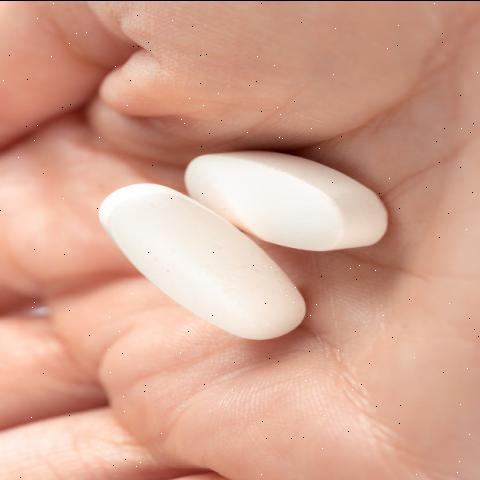Pill: (81, 176, 311, 386), (182, 132, 406, 253)
